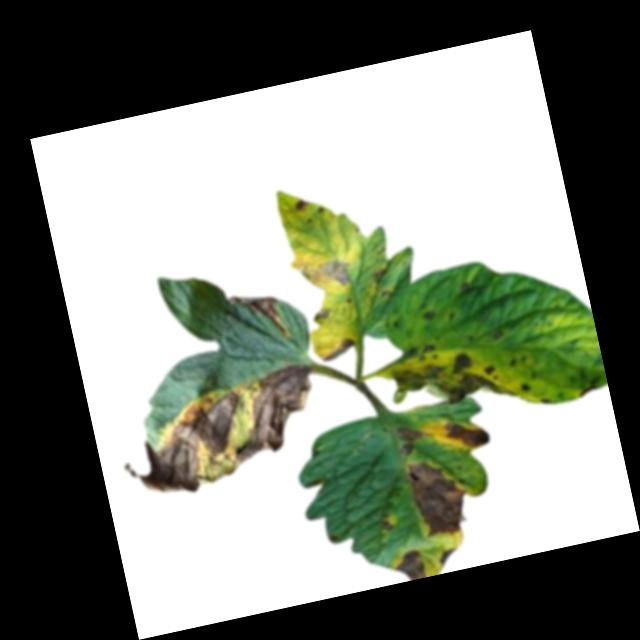Early_blight: (110, 361, 329, 505), (385, 346, 501, 417), (404, 451, 474, 542), (224, 287, 292, 351), (294, 257, 352, 296), (442, 414, 492, 454), (392, 547, 426, 582), (392, 422, 425, 458), (319, 335, 358, 365), (435, 545, 460, 568), (312, 306, 334, 326), (292, 197, 313, 216), (577, 383, 599, 400), (371, 267, 390, 286), (377, 513, 394, 534), (419, 343, 436, 358), (419, 310, 436, 324), (490, 329, 506, 341), (519, 382, 532, 395)
